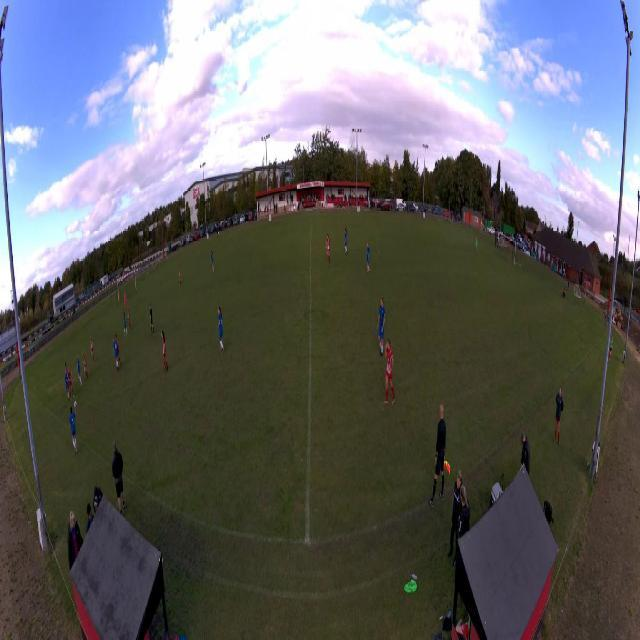ball: (74, 401, 77, 410)
player: (384, 336, 395, 407), (377, 297, 386, 357), (68, 406, 78, 453), (218, 305, 225, 355), (161, 330, 168, 374), (113, 337, 119, 373), (116, 334, 122, 369), (67, 369, 74, 399), (64, 368, 70, 402), (149, 304, 155, 335), (76, 354, 82, 385), (89, 333, 95, 364), (365, 242, 370, 276), (82, 351, 88, 379), (326, 233, 331, 265), (343, 227, 348, 256), (123, 311, 127, 337), (127, 304, 131, 330), (211, 249, 214, 274), (124, 293, 128, 311), (65, 361, 69, 379), (179, 266, 182, 286), (475, 237, 478, 256)
